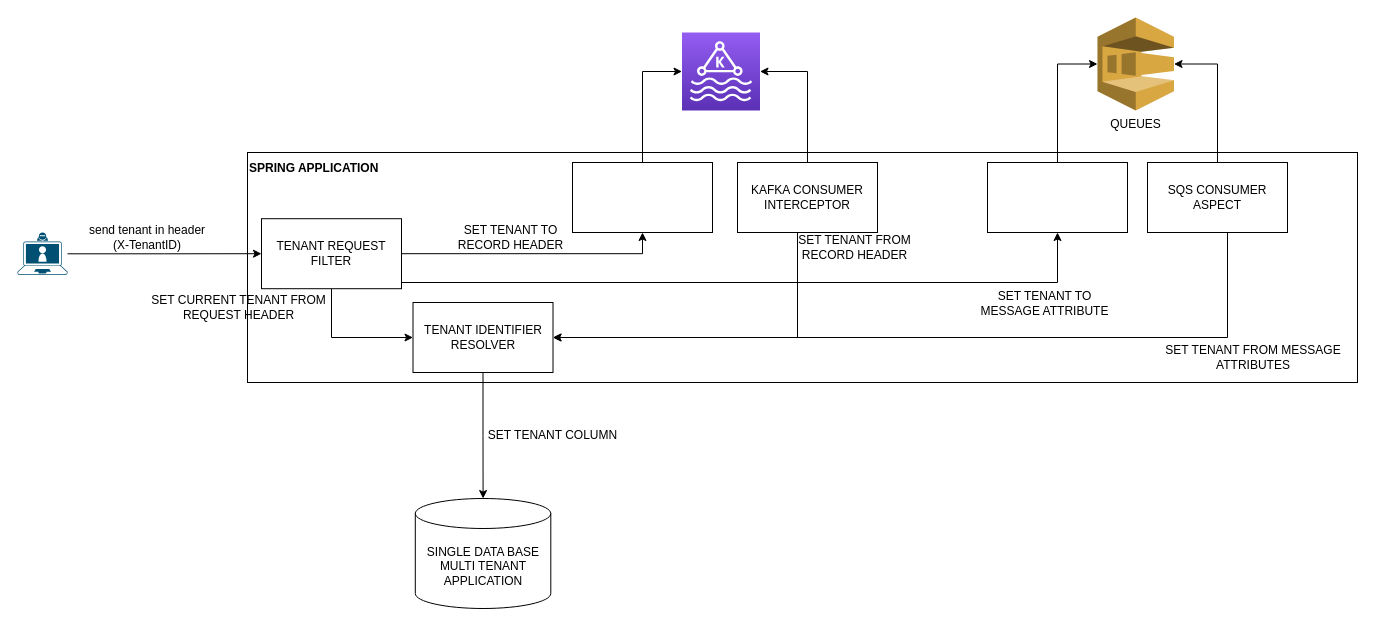
Some shapes in this 1375 by 626 pixel diagram are drawn without their labels. Each missing label, with the centre of its shape:
"KAFKA PRODUCER INTERCEPTOR" goes at point (642, 197).
"SQS SENDER INJECT TENANT TO ATTRIBUTE MESSAGE" goes at point (1057, 197).
"TOPICS" goes at point (720, 71).
